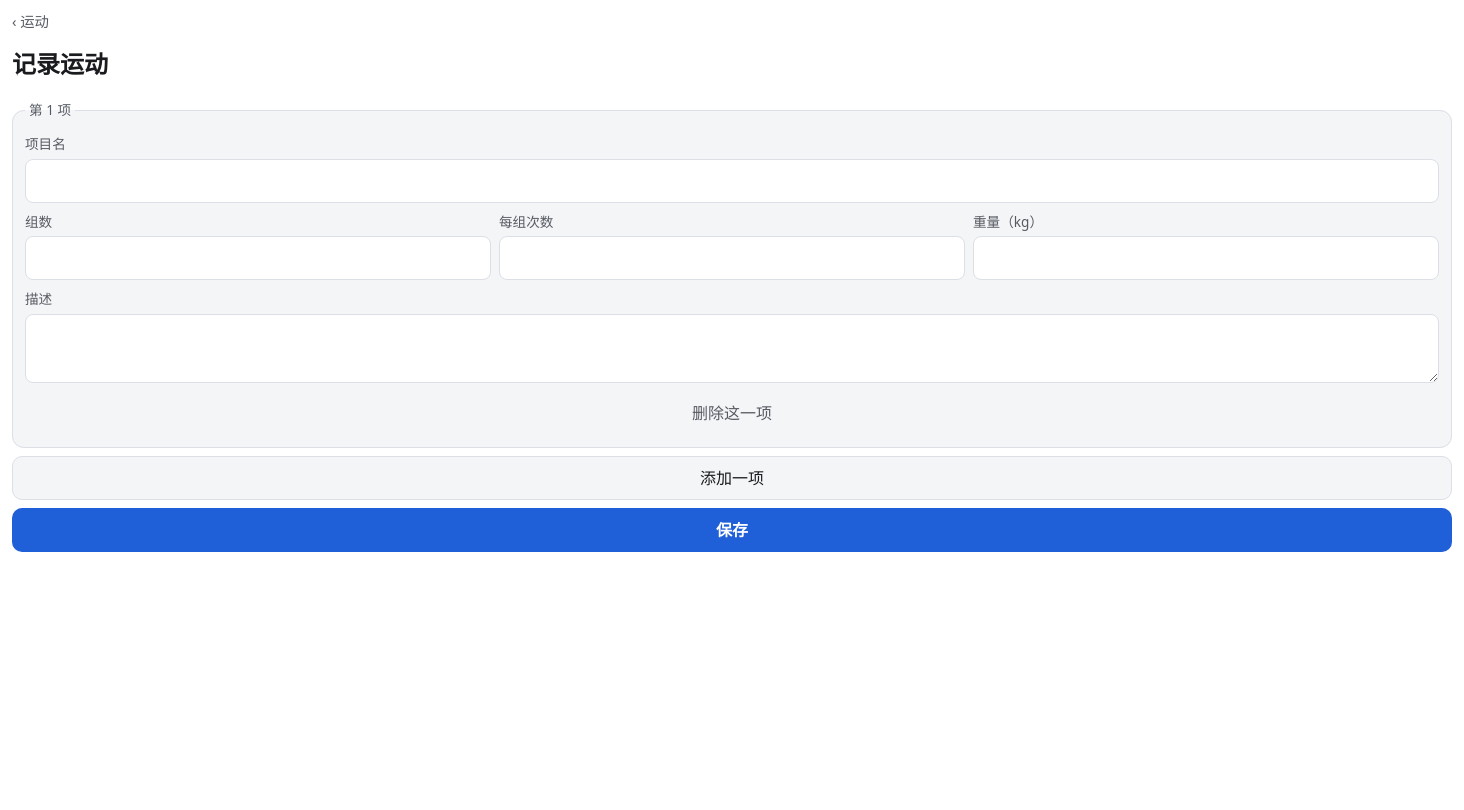
Test case: 录入页 › 删除最后一张卡片后保存按钮置灰
The width and height of the screenshot is (1464, 810).
Click the button "删除这一项": (732, 413) 25,391 -> 1439,435
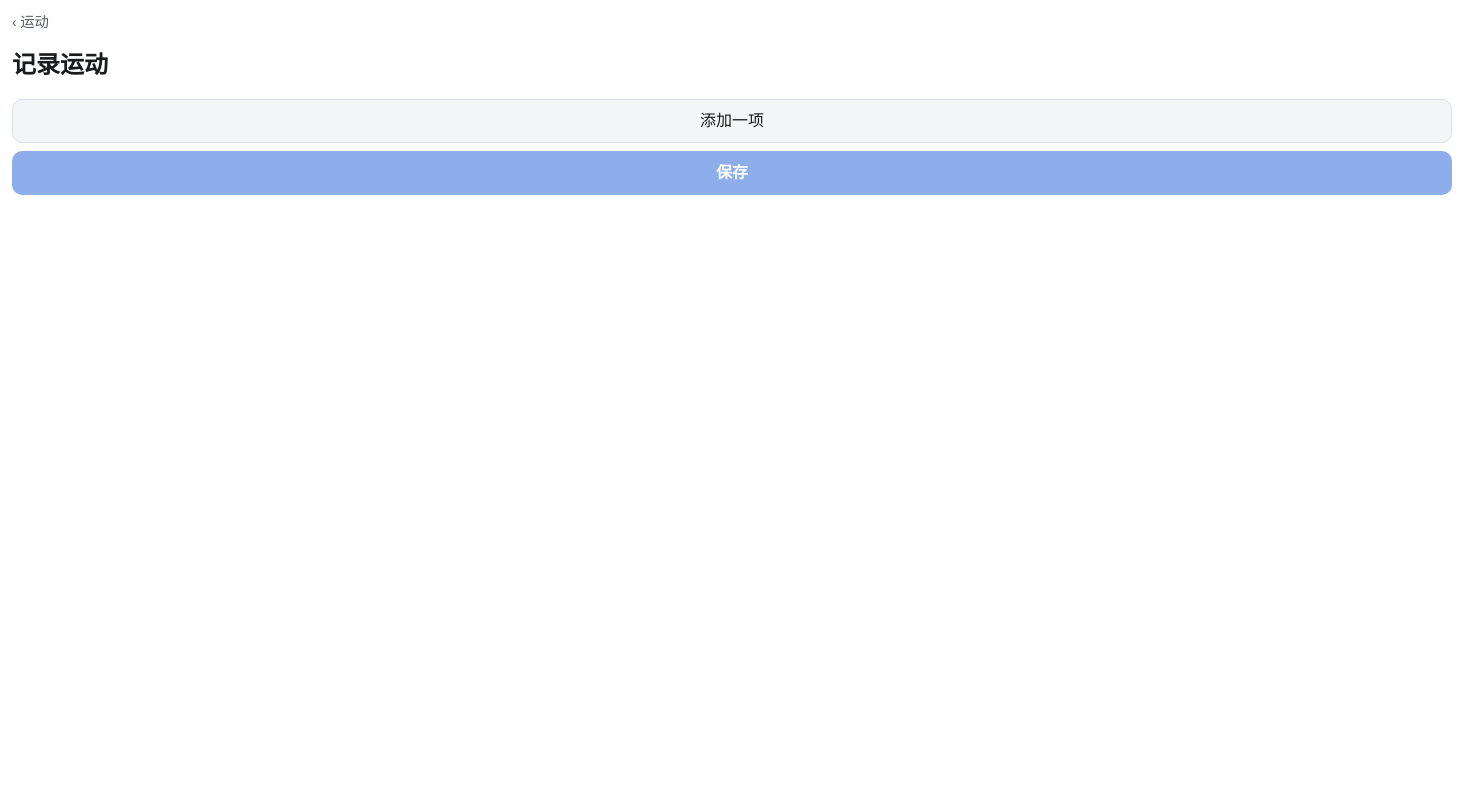
Now the button "保存" is disabled, box 12,151 -> 1452,195
